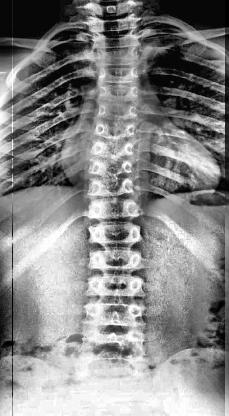Vertebrae: (77, 330, 153, 364), (81, 296, 151, 328), (82, 271, 150, 299), (86, 247, 148, 273), (87, 220, 147, 246), (85, 197, 144, 223), (88, 136, 140, 160), (86, 177, 138, 201), (92, 46, 146, 69), (90, 28, 142, 50), (87, 155, 139, 177), (86, 12, 142, 32), (91, 118, 141, 140), (94, 100, 142, 122), (98, 64, 142, 86), (96, 84, 142, 104)
